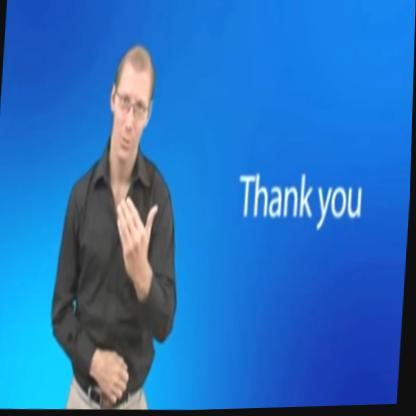ThankYou: (84, 31, 181, 312)
